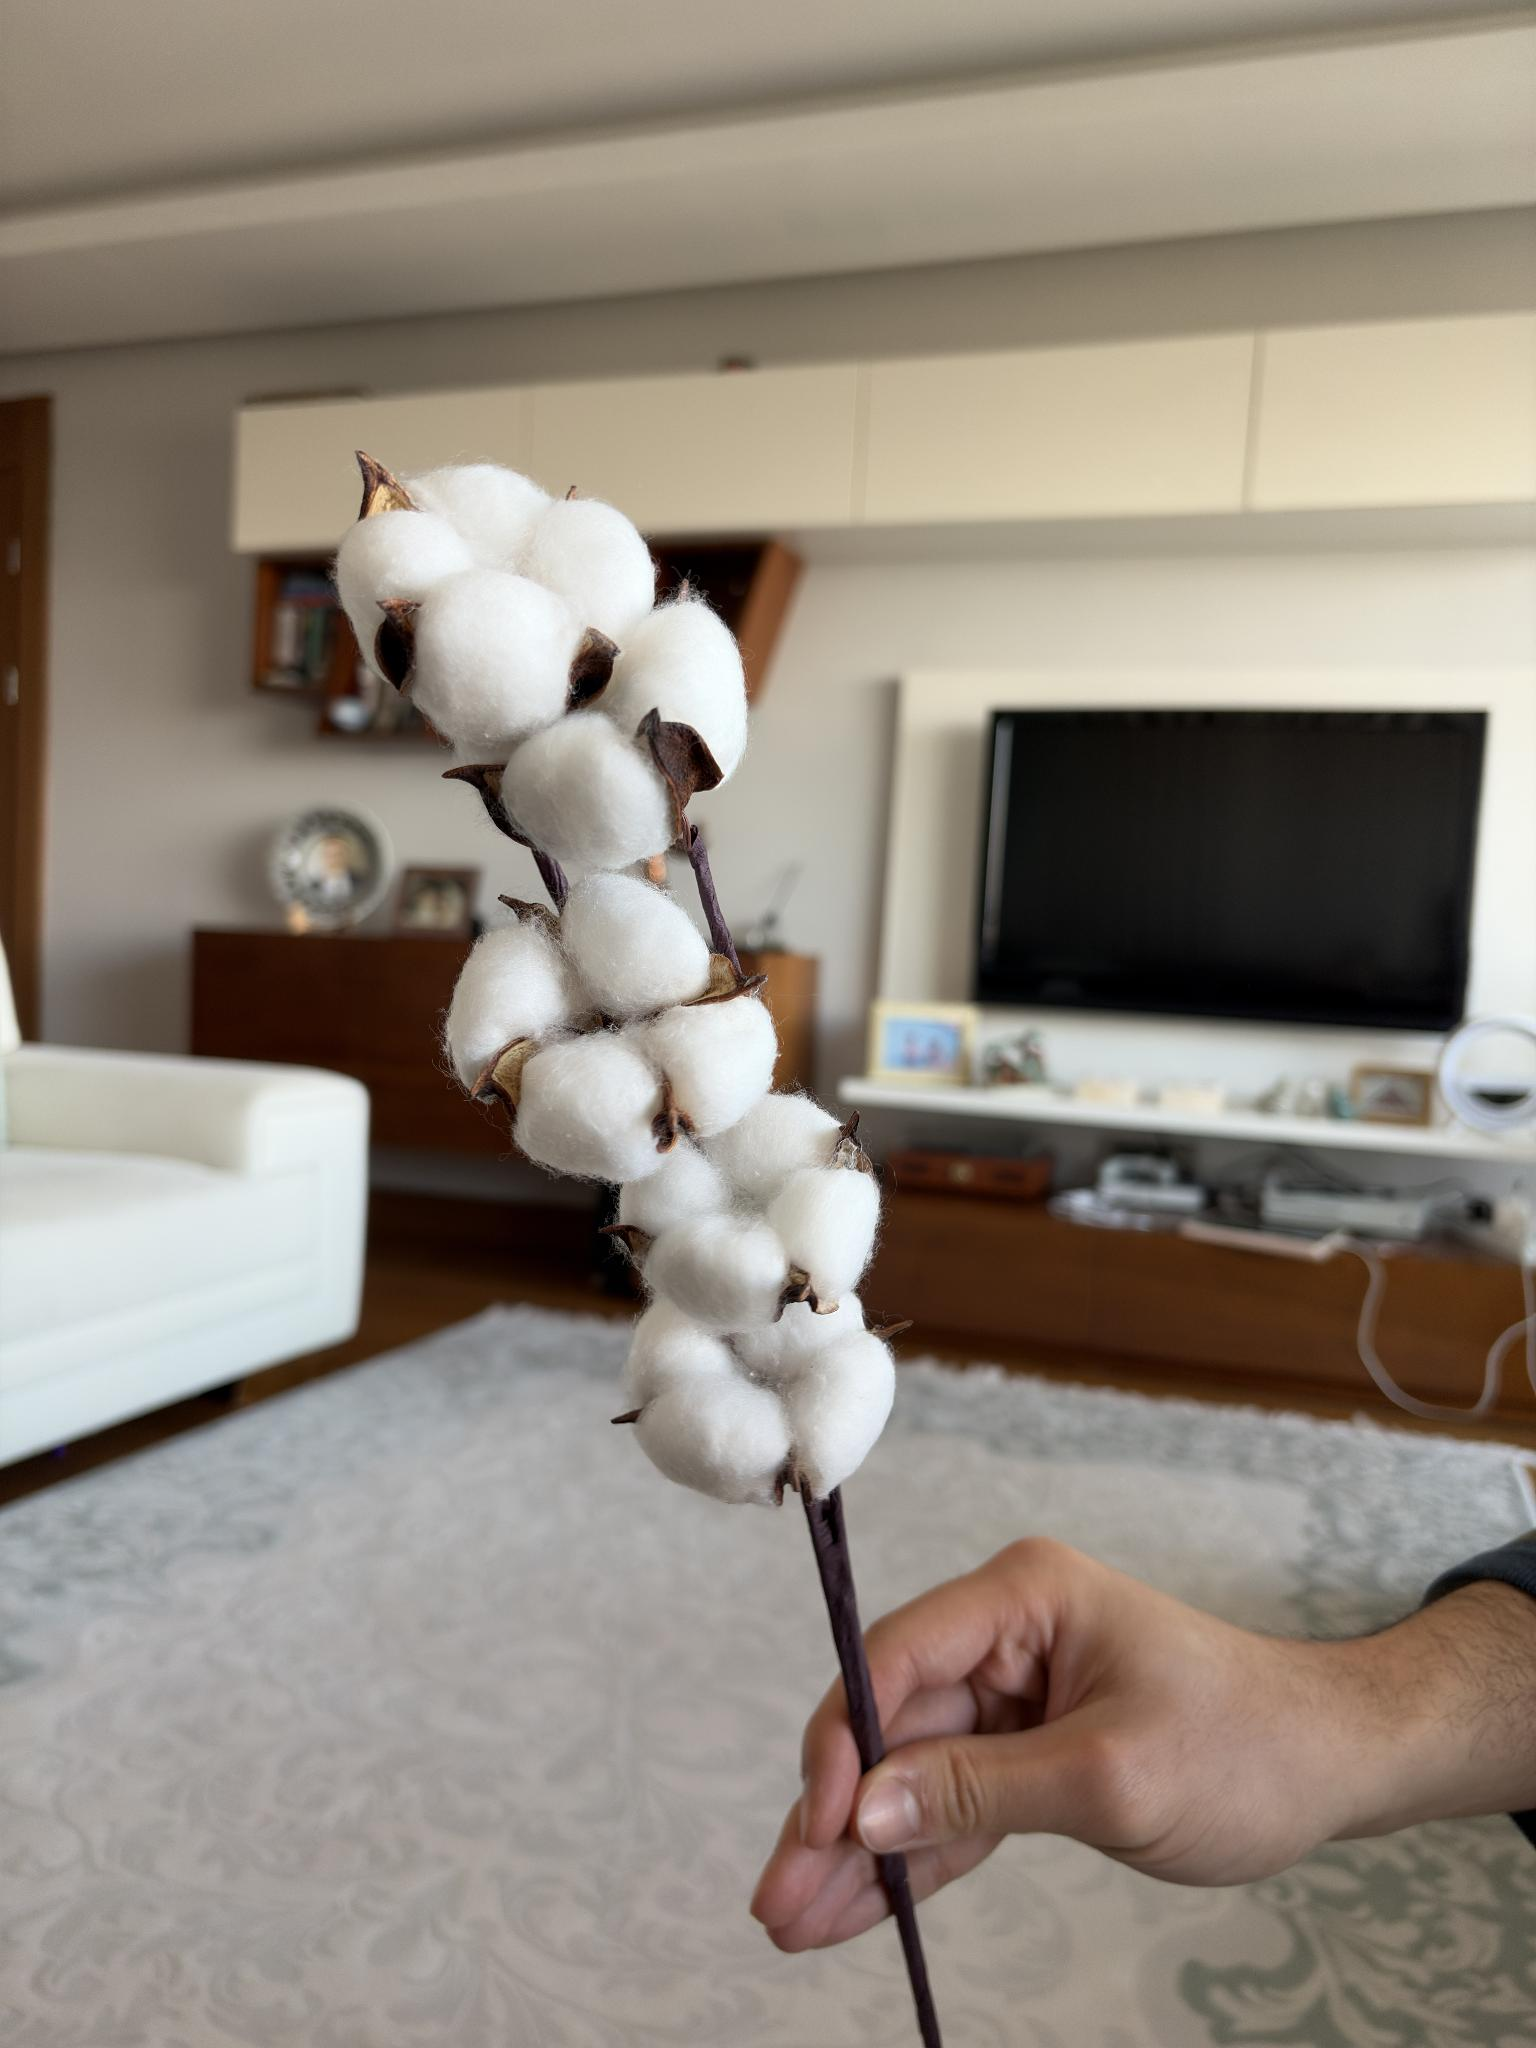cotton_boll: (621, 1300, 799, 1506), (407, 569, 586, 761), (503, 710, 674, 872), (600, 593, 747, 777), (445, 906, 578, 1089), (515, 1030, 662, 1184), (561, 872, 710, 1019), (515, 498, 655, 645), (336, 510, 471, 660), (645, 1211, 808, 1334), (641, 997, 776, 1138), (784, 1334, 895, 1496), (766, 1166, 879, 1314), (403, 463, 552, 568), (703, 1093, 841, 1205), (728, 1293, 865, 1384), (618, 1138, 731, 1237)
cotton_boll-cluster: (308, 442, 757, 884), (431, 871, 787, 1185), (602, 1089, 905, 1335), (616, 1287, 912, 1517)
